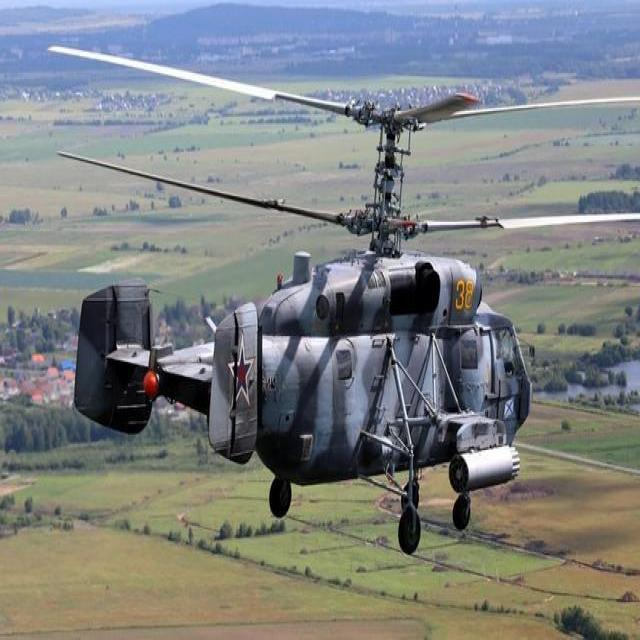MIL_HELO: (56, 22, 606, 545)
